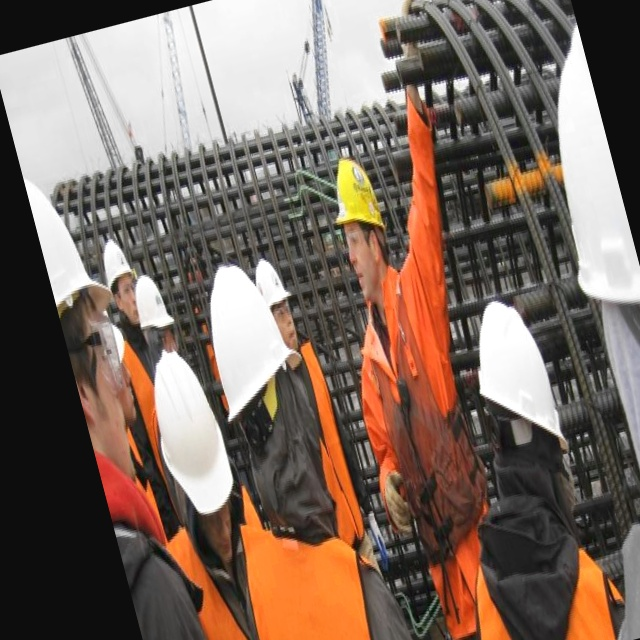Con_Casco: (324, 156, 397, 287)
